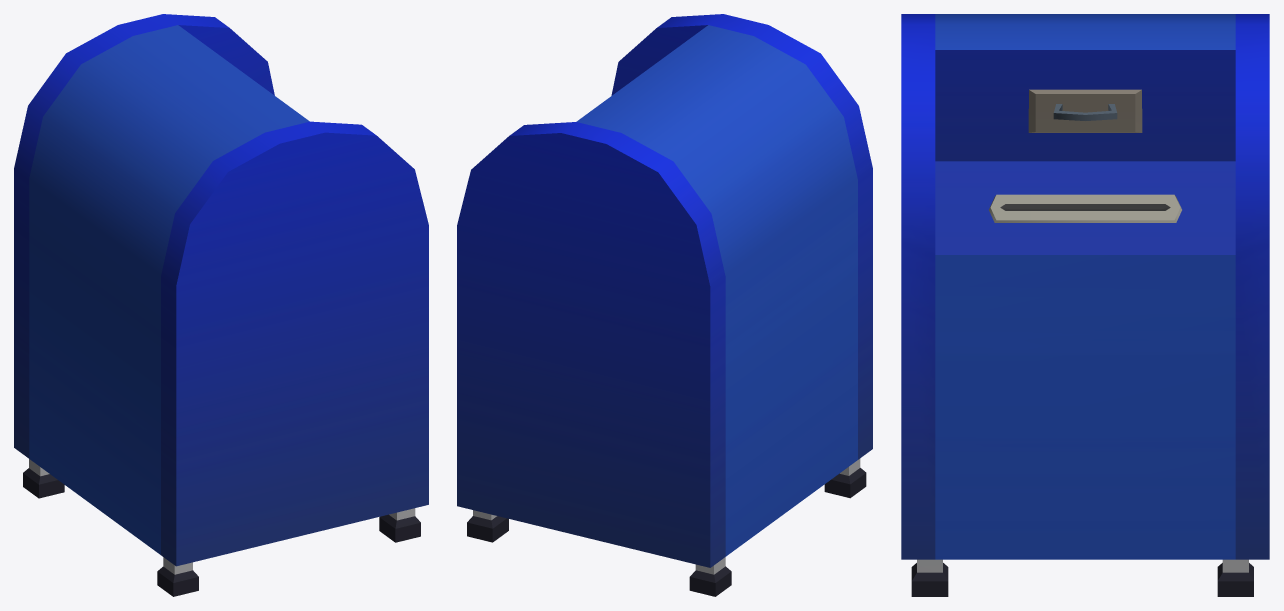
The model's file is PostBox_1_D.glb.
3 views of the same model, side by side, from view 1: azimuth 30°, elevation 25°; view 2: azimuth 150°, elevation 25°; view 3: azimuth 270°, elevation 25° (orthographic). The views are drawn at different scales.
Parts seen in each view (by area): view 1: PostBox_1_D; view 2: PostBox_1_D; view 3: PostBox_1_D.
Part boxes in pixels (x1,y1,x2,y2): PostBox_1_D: (14, 14, 428, 596); PostBox_1_D: (457, 14, 872, 596); PostBox_1_D: (901, 14, 1269, 596).
Bounding box in the file's own units: 0.5121 × 0.8366 × 0.5689.
2 materials, 2 textured.
